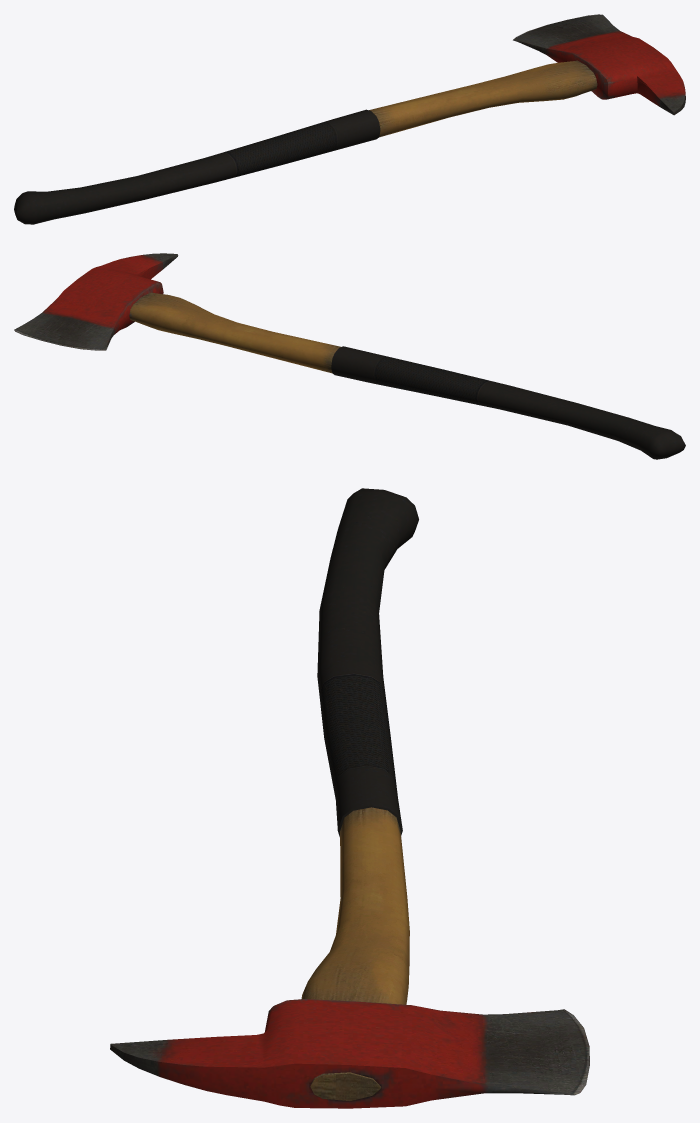
Rendered from fire_axe.glb.
3 renders of one model, top to bottom at view 1: azimuth 30°, elevation 25°; view 2: azimuth 150°, elevation 25°; view 3: azimuth 270°, elevation 25°, orthographic. The views are drawn at different scales.
Parts seen in each view (by area): view 1: Object_2; view 2: Object_2; view 3: Object_2.
Boxes of the visible parts, left/top/right/bottom form: Object_2: left=14, top=14, right=685, bottom=224; Object_2: left=14, top=253, right=685, bottom=459; Object_2: left=110, top=488, right=589, bottom=1108.
Bounding box in the file's own units: 2.62 × 0.1243 × 0.8819.
Materials: 1 (1 with a texture image).
